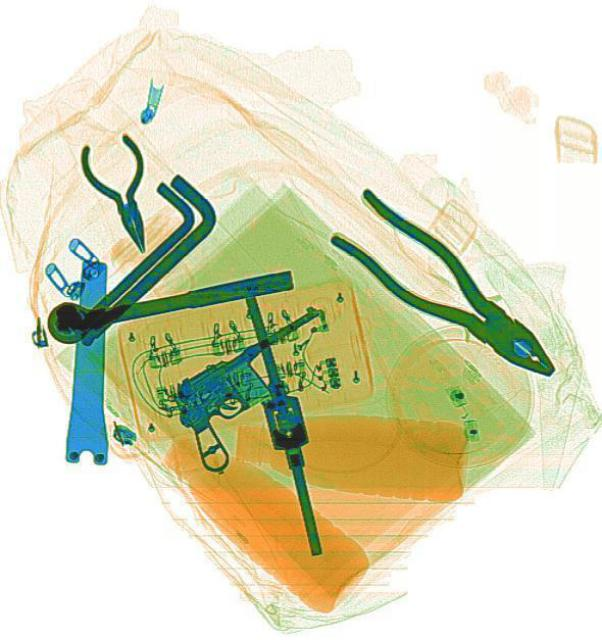Gun: (154, 298, 366, 476)
Pliers: (316, 182, 575, 402), (73, 127, 168, 259)
